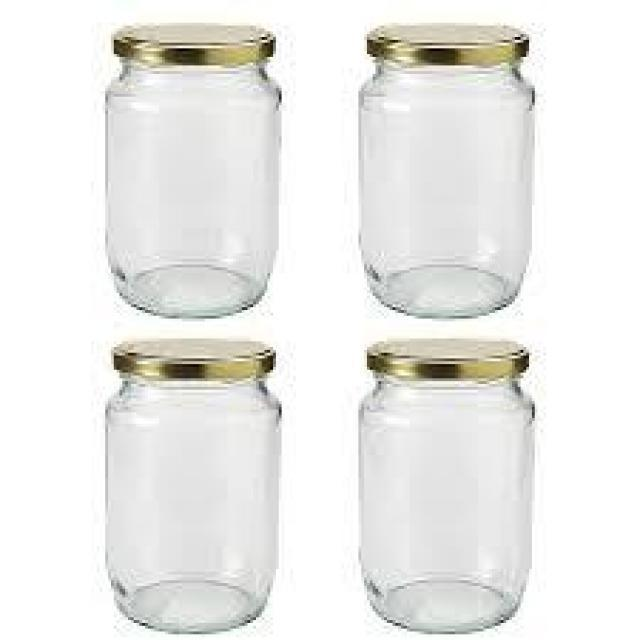glass: (102, 21, 288, 320)
